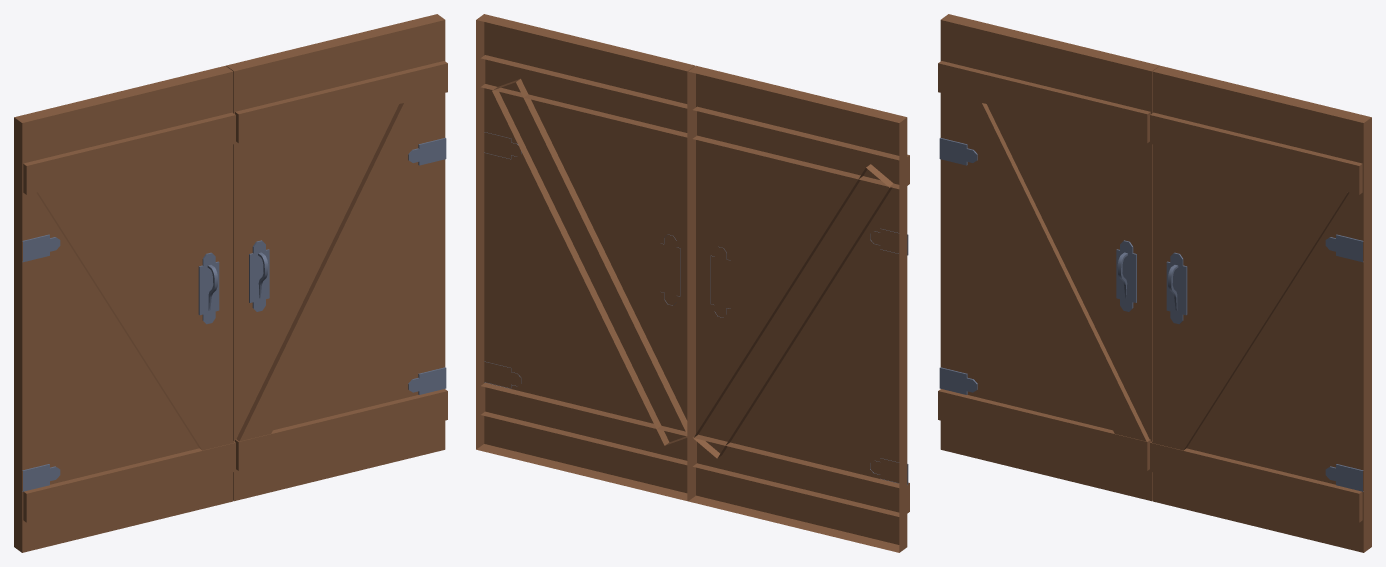
File: WarehouseDoor 1.fbx
3 renders of one model, left to right at view 1: azimuth 30°, elevation 25°; view 2: azimuth 150°, elevation 25°; view 3: azimuth 330°, elevation 25°, orthographic.
Visible parts, largest first — view 1: WarehouseDoor; view 2: WarehouseDoor; view 3: WarehouseDoor.
Boxes of the visible parts, left/top/right/bottom form: WarehouseDoor: left=14, top=14, right=447, bottom=552; WarehouseDoor: left=476, top=14, right=909, bottom=552; WarehouseDoor: left=938, top=14, right=1371, bottom=552.
Size of the model in its own units: 149 by 145 by 9.56.
